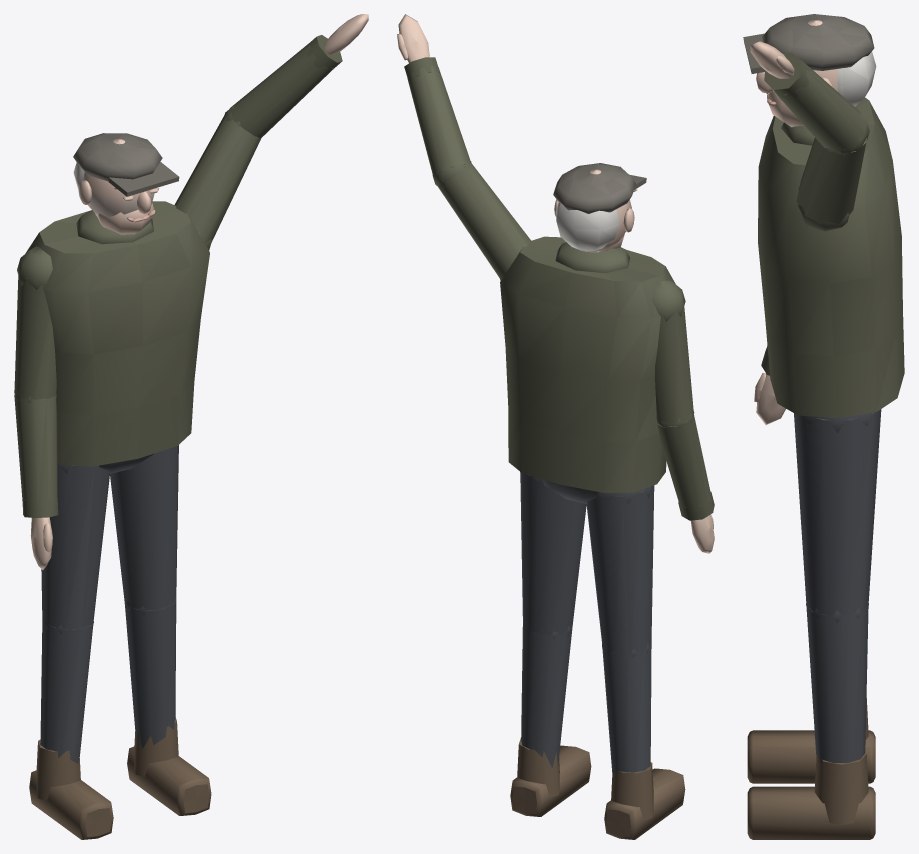
Rendered from ellis_waving_a.glb.
3 renders of one model, left to right at view 1: azimuth 30°, elevation 25°; view 2: azimuth 150°, elevation 25°; view 3: azimuth 270°, elevation 25°, orthographic. The views are drawn at different scales.
Visible parts, largest first — view 1: body; view 2: body; view 3: body.
Boxes of the visible parts, x1,y1,x2,y2 form: body: [14, 14, 368, 839]; body: [397, 14, 714, 839]; body: [743, 14, 904, 839].
Size of the model in its own units: 0.9018 by 1.96 by 0.3213.
